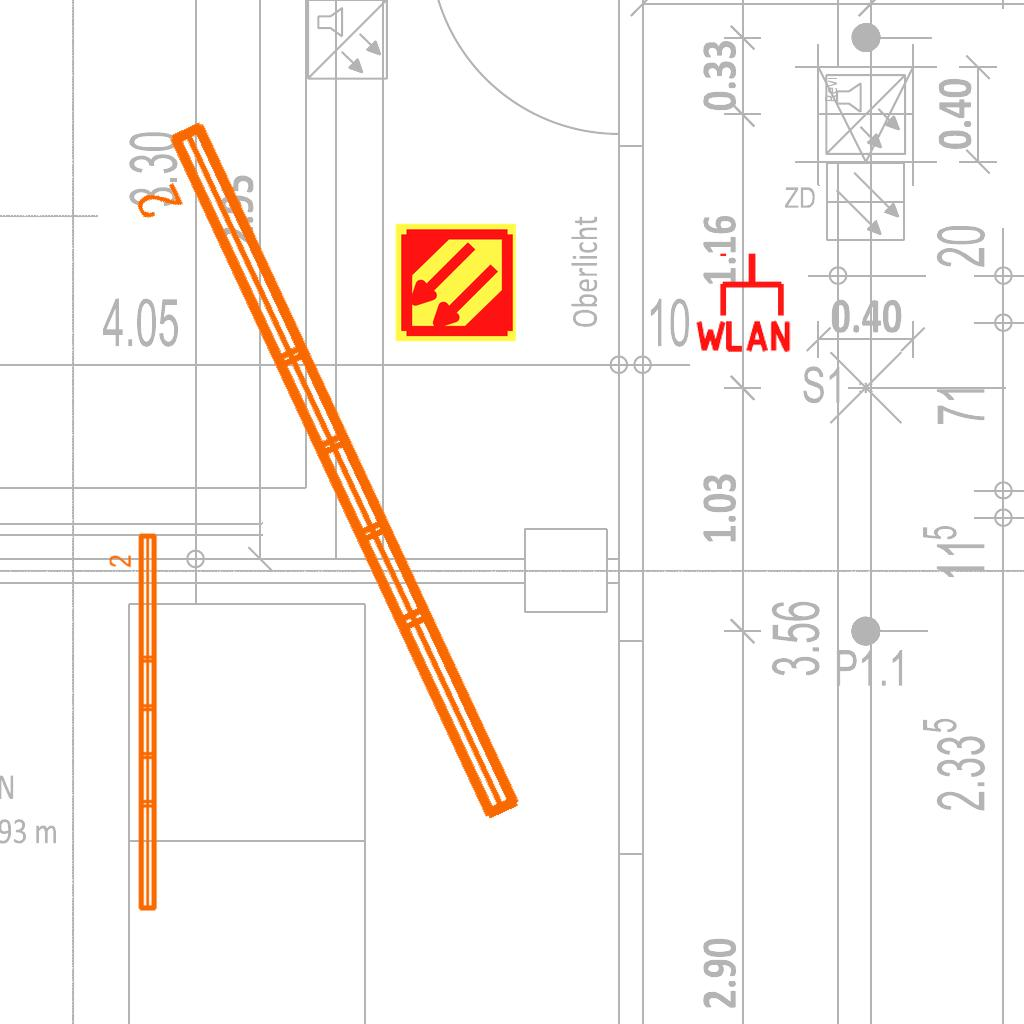ASR_Ansaugrauchmelder: (393, 220, 518, 345)
Ambulanz_Pendelleuchte_LED: (107, 107, 537, 857), (107, 529, 163, 916)
WLAN: (691, 249, 795, 354)
